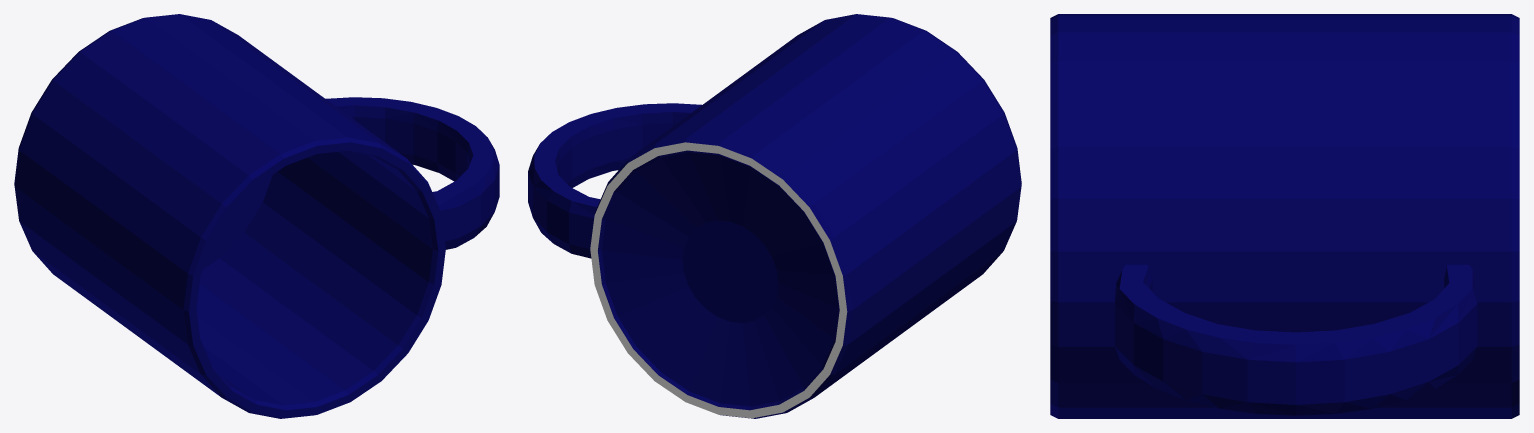
3 views of the same model, side by side, from view 1: azimuth 30°, elevation 25°; view 2: azimuth 150°, elevation 25°; view 3: azimuth 270°, elevation 25° (orthographic). The views are drawn at different scales.
Parts seen in each view (by area): view 1: blue coffee mug; view 2: blue coffee mug; view 3: blue coffee mug.
Boxes of the visible parts, box(x1,y1,x2,y2) form: blue coffee mug: box(14, 14, 499, 418); blue coffee mug: box(528, 14, 1021, 418); blue coffee mug: box(1050, 14, 1519, 418).
Size of the model in its own units: 4.79 by 3.25 by 3.75.
